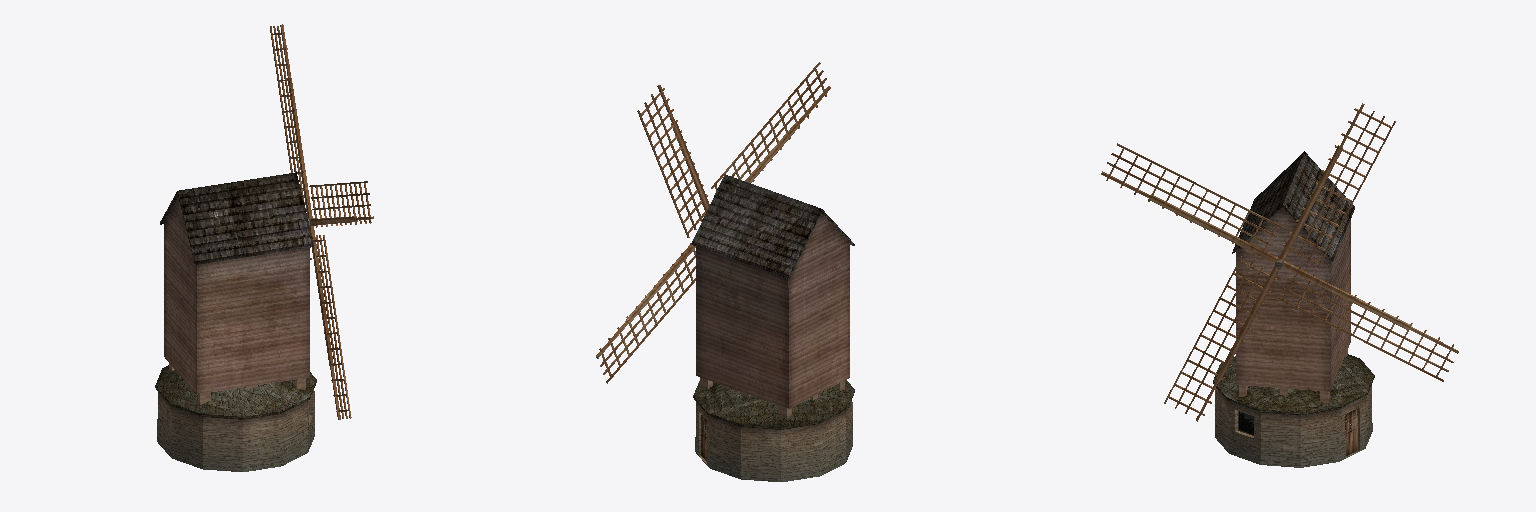
3 views of the same model, side by side, from view 1: azimuth 30°, elevation 25°; view 2: azimuth 150°, elevation 25°; view 3: azimuth 270°, elevation 25° (orthographic).
Parts seen in each view (by area): view 1: windmill; view 2: windmill; view 3: windmill.
Part boxes in pixels (x1,y1,x2,y2): windmill: (155, 24, 373, 471); windmill: (596, 62, 854, 481); windmill: (1101, 103, 1458, 467).
Bounding box in the file's own units: 3.29 × 6.99 × 6.14.
3 materials, 3 textured.